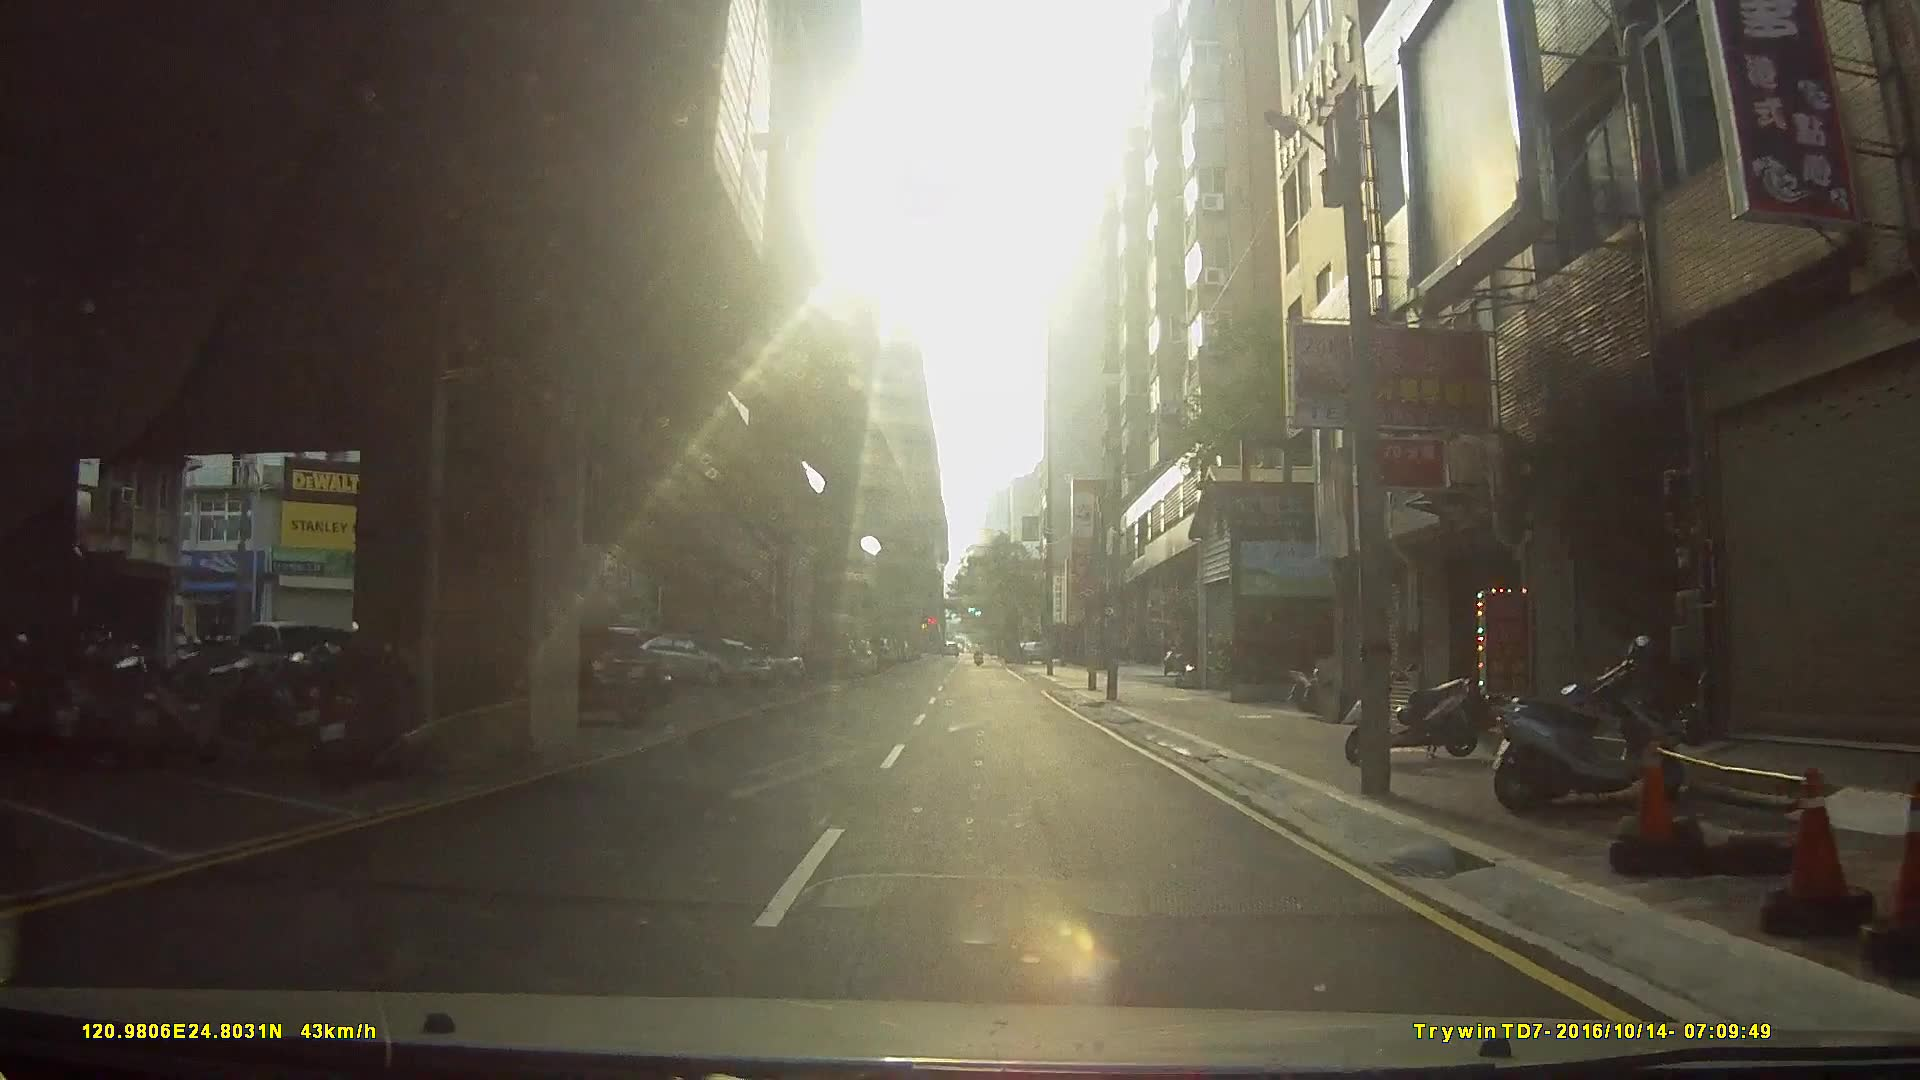vehicle: (502, 626, 676, 721), (629, 632, 774, 687)
